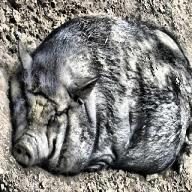boar: (7, 12, 192, 176)
